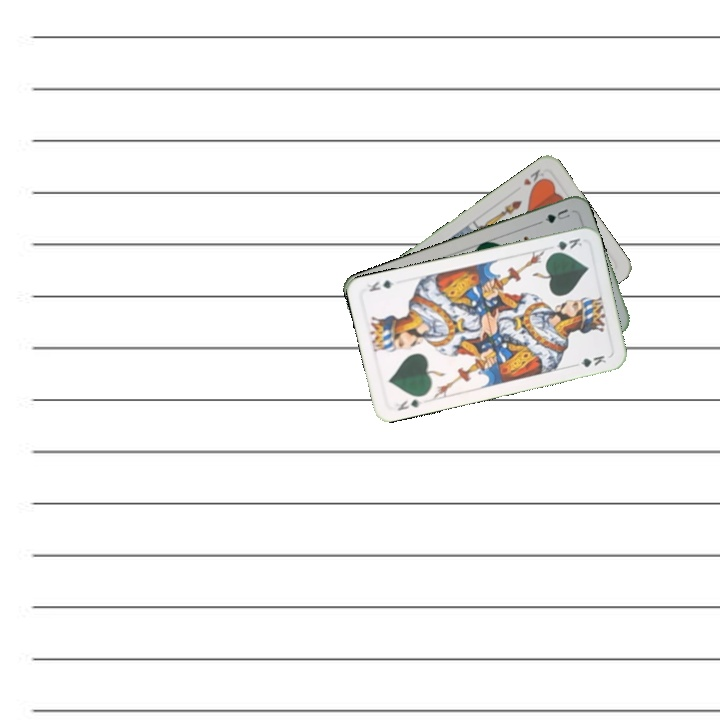GK: (546, 234, 584, 257), (394, 395, 425, 413)
GU: (541, 204, 573, 226)
HK: (519, 165, 549, 191)
